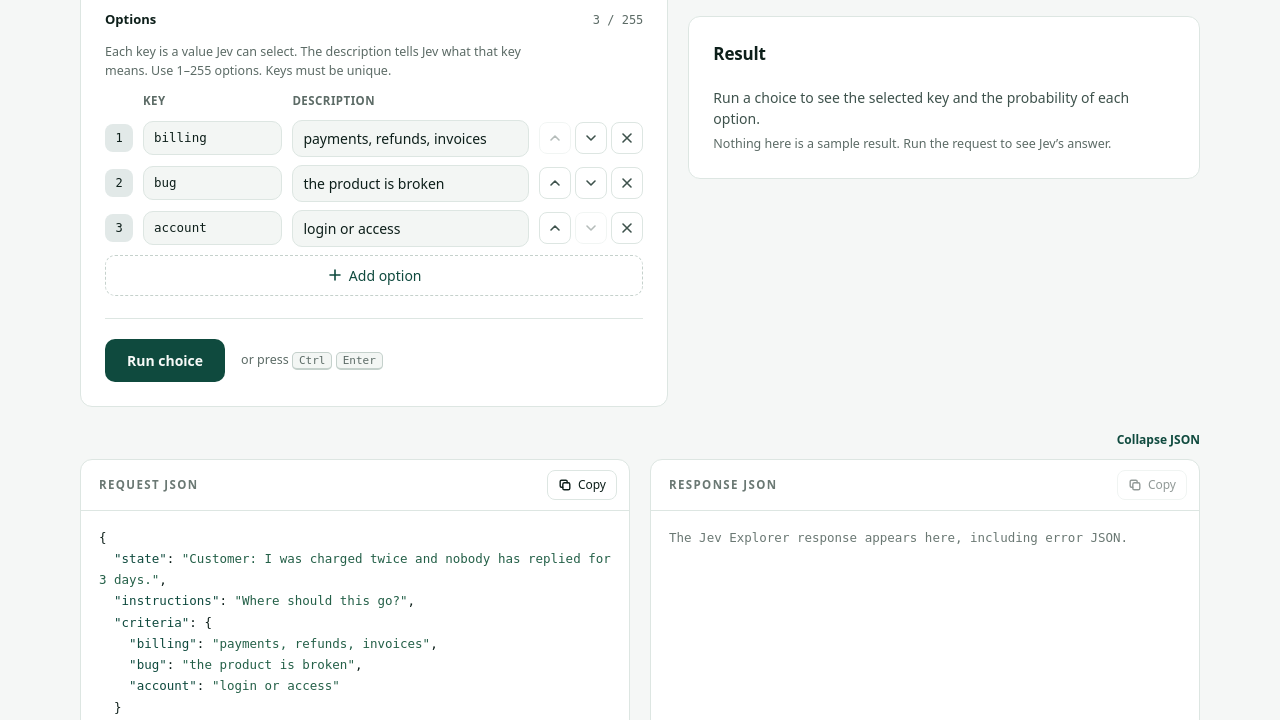
Test: Explorer › shows 503 jev_not_configured
(page scrolled)
Click the button "Run choice". click: (165,360)
box: x1=105 y1=338 x2=225 y2=382
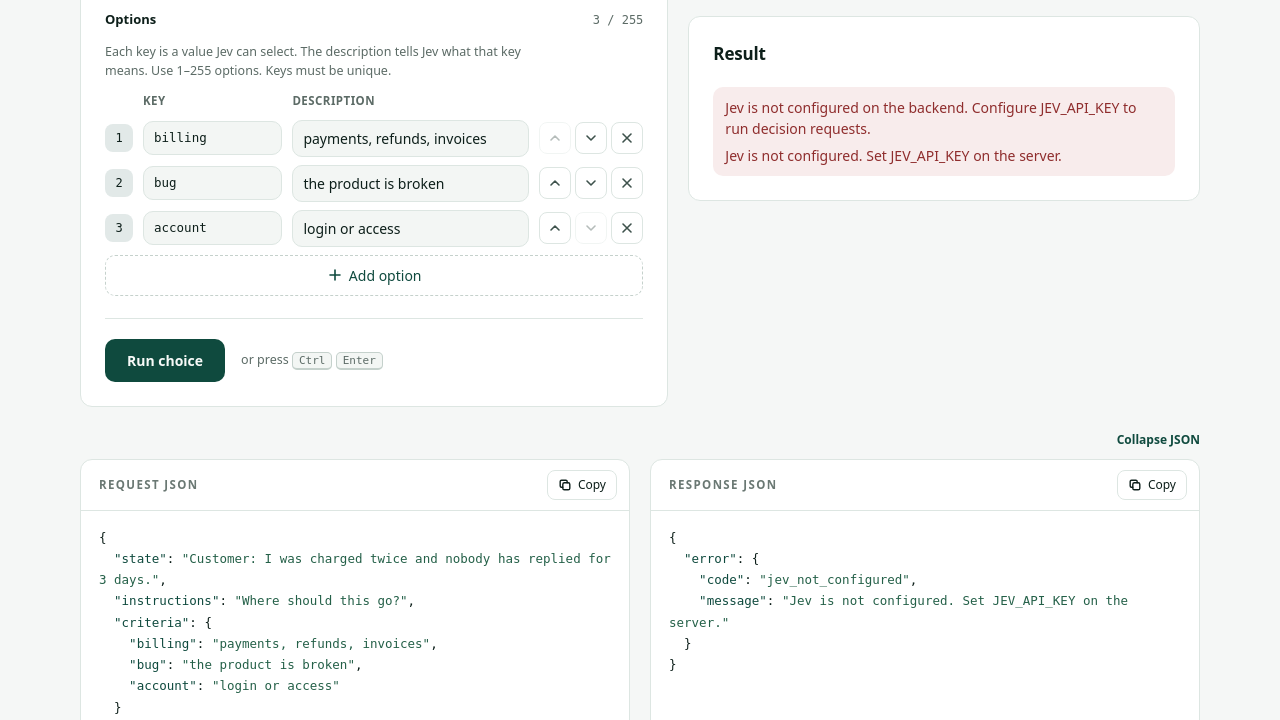
Check: the message shows "JEV_API_KEY", box x1=725 y1=98 x2=1137 y2=138
Check: the element with id "response-json" shows "\"jev_not_configured\"", box x1=759 y1=572 x2=910 y2=587
